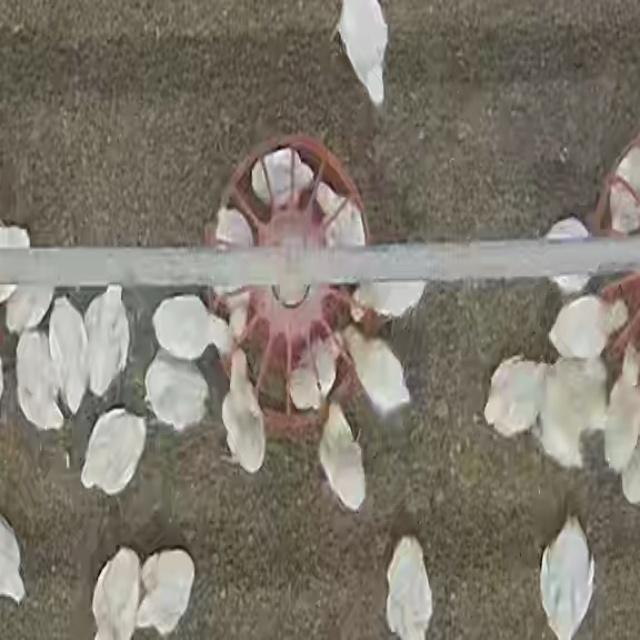chicken: (538, 358, 605, 471), (344, 323, 416, 418), (540, 514, 594, 640), (218, 347, 268, 475), (478, 352, 550, 438), (80, 406, 148, 495), (314, 402, 369, 512), (84, 286, 131, 401), (143, 353, 210, 433), (14, 328, 64, 434), (137, 547, 197, 635), (385, 534, 434, 640), (602, 347, 640, 481), (90, 547, 143, 639), (287, 329, 344, 413), (248, 142, 316, 206), (547, 296, 611, 361), (321, 185, 367, 251)
